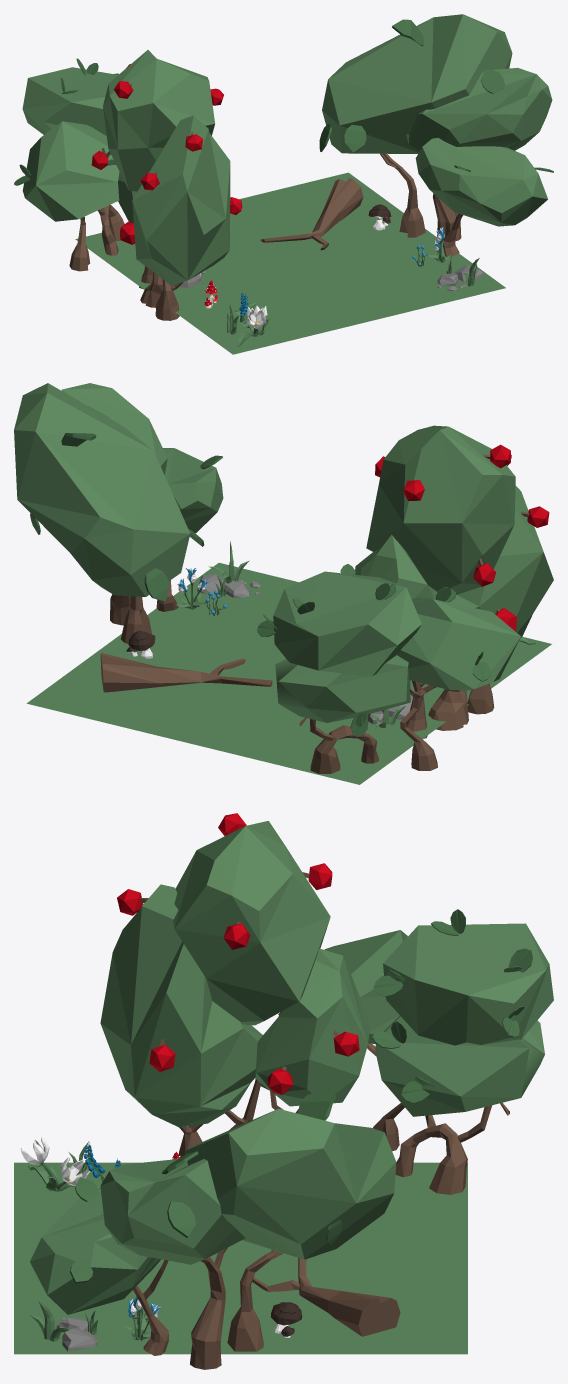
File: RightTopTile.fbx
The picture shows the model from 3 angles, top to bottom: view 1: azimuth 30°, elevation 25°; view 2: azimuth 150°, elevation 25°; view 3: azimuth 270°, elevation 25°; orthographic projection. The views are drawn at different scales.
Parts seen in each view (by area): view 1: bush_5; view 2: bush_5; view 3: bush_5.
Part boxes in pixels (box(x1,y1,x2,y2)): bush_5: box(14, 14, 553, 354); bush_5: box(14, 383, 553, 784); bush_5: box(14, 813, 553, 1369).
Size of the model in its own units: 3.29 by 1.72 by 2.38.
